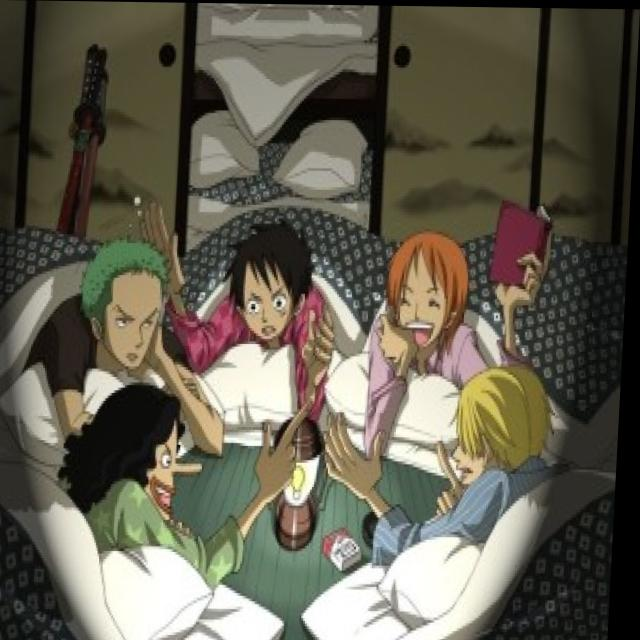Luffy: (220, 209, 329, 347)
Nami: (371, 215, 489, 369)
Sangdi: (442, 361, 565, 499)
Usopp: (68, 373, 216, 543)
Zoro: (79, 229, 179, 381)
